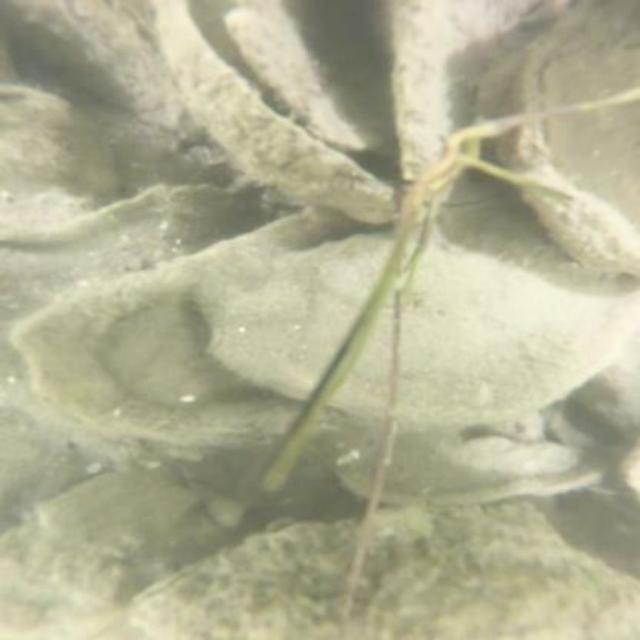Oyster-Closed: (8, 199, 383, 444), (198, 227, 638, 429), (490, 0, 638, 285), (357, 508, 638, 638), (0, 2, 204, 141), (132, 522, 357, 638), (226, 3, 382, 156), (6, 86, 131, 230), (456, 429, 574, 474)
Oyster-Open: (157, 0, 457, 224)
